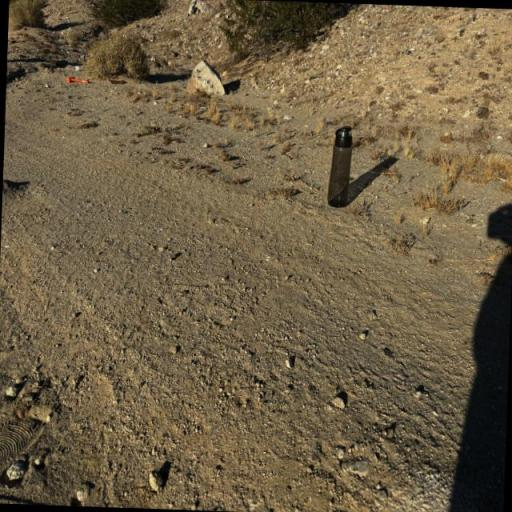bottle: (327, 124, 353, 210)
mallet: (63, 69, 92, 86)
